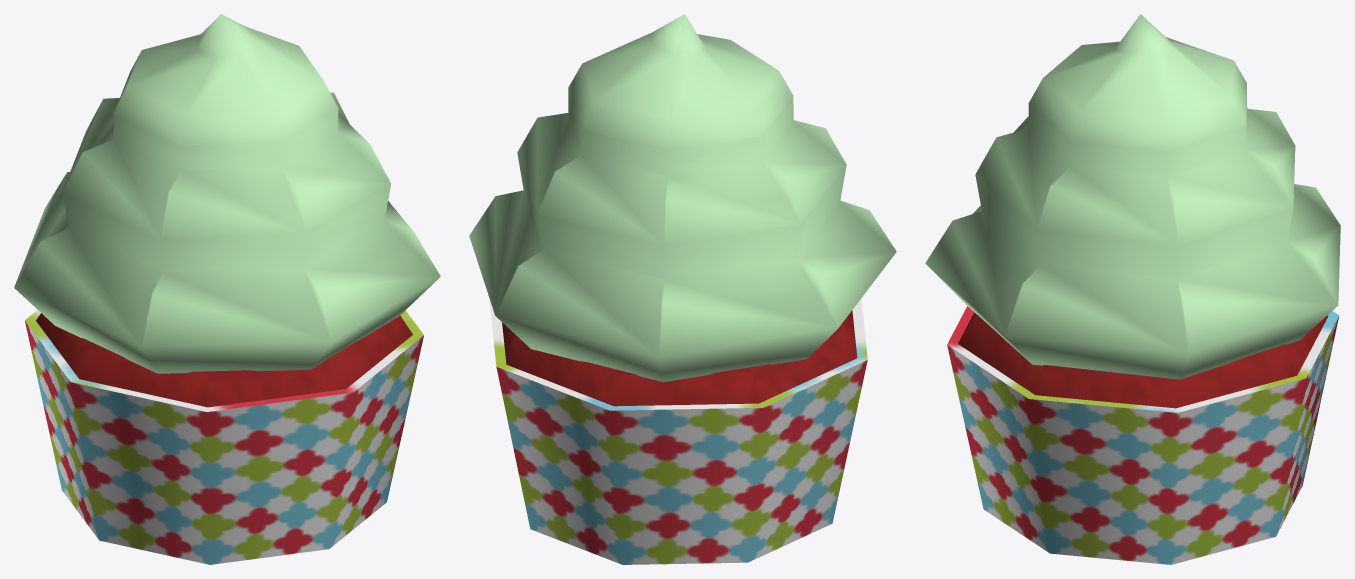
The model's file is Cupcake_A_21.FBX.
3 renders of one model, left to right at view 1: azimuth 30°, elevation 25°; view 2: azimuth 150°, elevation 25°; view 3: azimuth 270°, elevation 25°, orthographic.
Visible parts, largest first — view 1: Cupcake; view 2: Cupcake; view 3: Cupcake.
Part boxes in pixels (box(x1,y1,x2,y2)): Cupcake: box(14, 14, 440, 564); Cupcake: box(469, 14, 896, 564); Cupcake: box(925, 14, 1340, 564).
Size of the model in its own units: 34.42 by 43.01 by 33.65.
